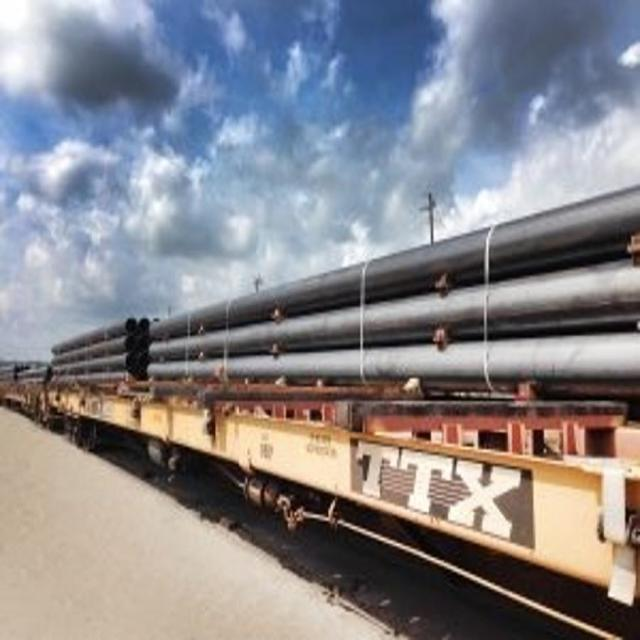cargo: (142, 166, 640, 386), (47, 308, 155, 391)
flatcar: (46, 381, 640, 640)
